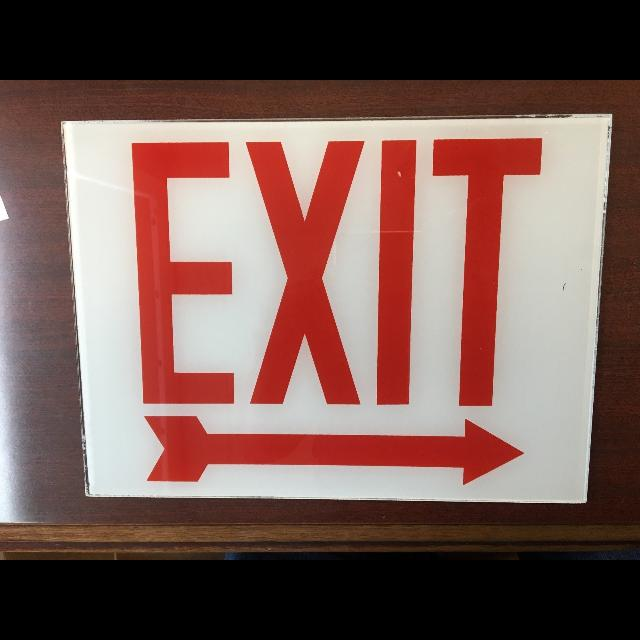exit: (62, 114, 611, 502)
